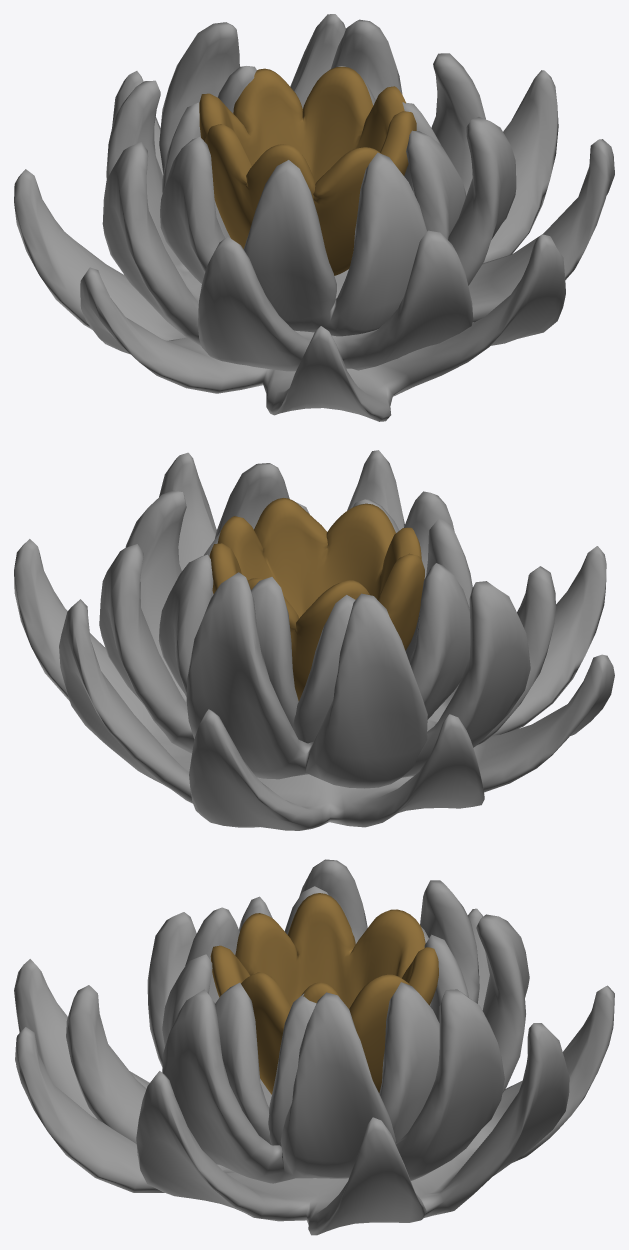
File: LilyFlower_01_thick.fbx
The picture shows the model from 3 angles, top to bottom: view 1: azimuth 30°, elevation 25°; view 2: azimuth 150°, elevation 25°; view 3: azimuth 270°, elevation 25°; orthographic projection.
Parts seen in each view (by area): view 1: LilyFlower_01_thick; view 2: LilyFlower_01_thick; view 3: LilyFlower_01_thick.
Boxes of the visible parts, x1,y1,x2,y2 form: LilyFlower_01_thick: (14,14,614,421); LilyFlower_01_thick: (14,450,614,830); LilyFlower_01_thick: (14,859,614,1235).
Bounding box in the file's own units: 15.61 × 7.22 × 15.28.
